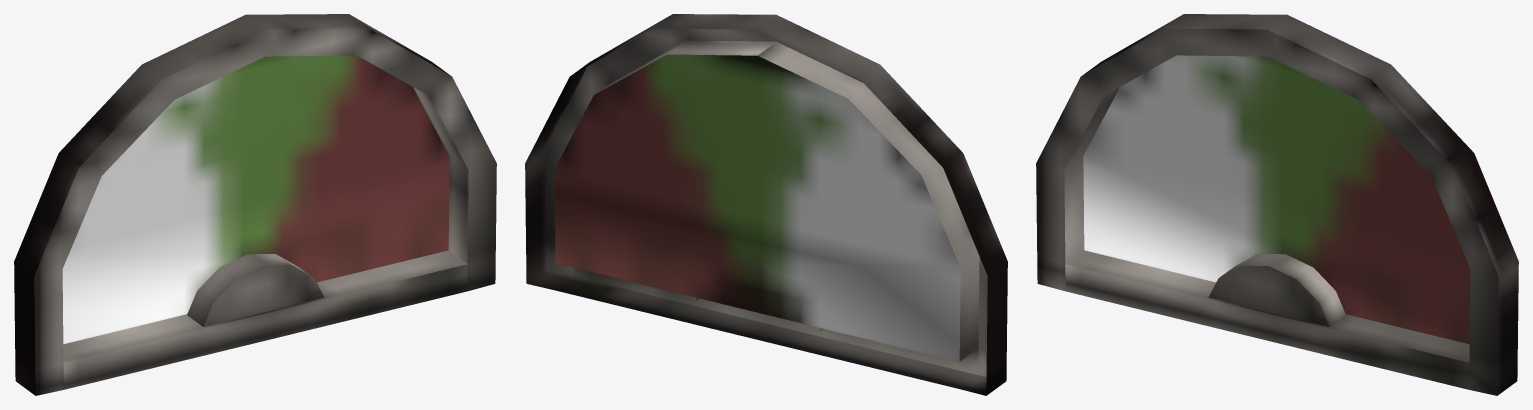
Rendered from temperatura.glb.
3 renders of one model, left to right at view 1: azimuth 30°, elevation 25°; view 2: azimuth 150°, elevation 25°; view 3: azimuth 330°, elevation 25°, orthographic.
Parts seen in each view (by area): view 1: painelTemperatura.001; view 2: painelTemperatura.001; view 3: painelTemperatura.001.
Part boxes in pixels (box(x1,y1,x2,y2)): painelTemperatura.001: box(14, 14, 496, 395); painelTemperatura.001: box(525, 14, 1007, 395); painelTemperatura.001: box(1036, 14, 1518, 395).
Bounding box in the file's own units: 0.7006 × 0.4503 × 0.0529.
1 material, 1 textured.
